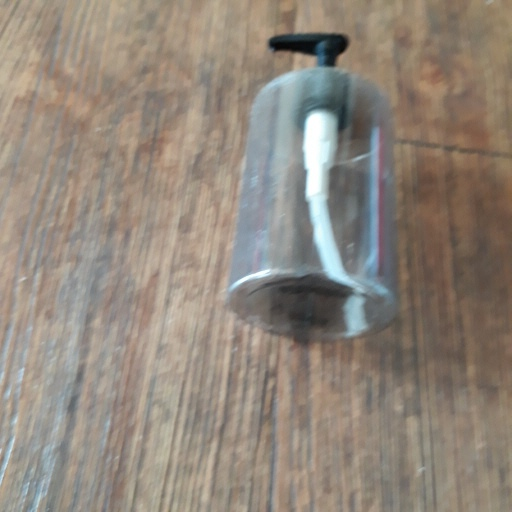Plastic_3: (225, 29, 400, 349)
